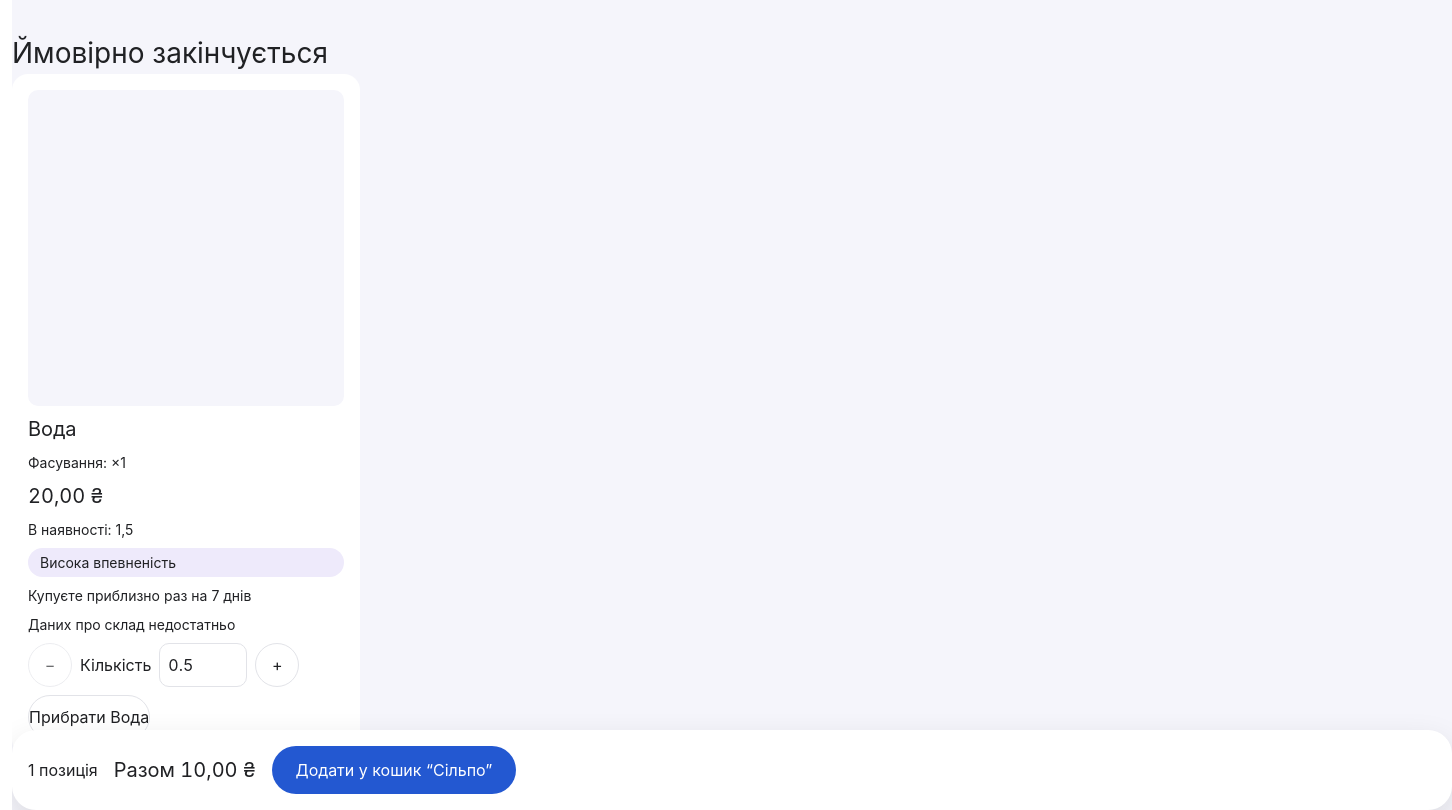
Scenario: DraftEditor › T15-01 changes fractional quantity by the selected step and respects stock
The width and height of the screenshot is (1452, 810).
Click the button named "Збільшити кількість Вода" at (277,665), box [255,643,299,687]
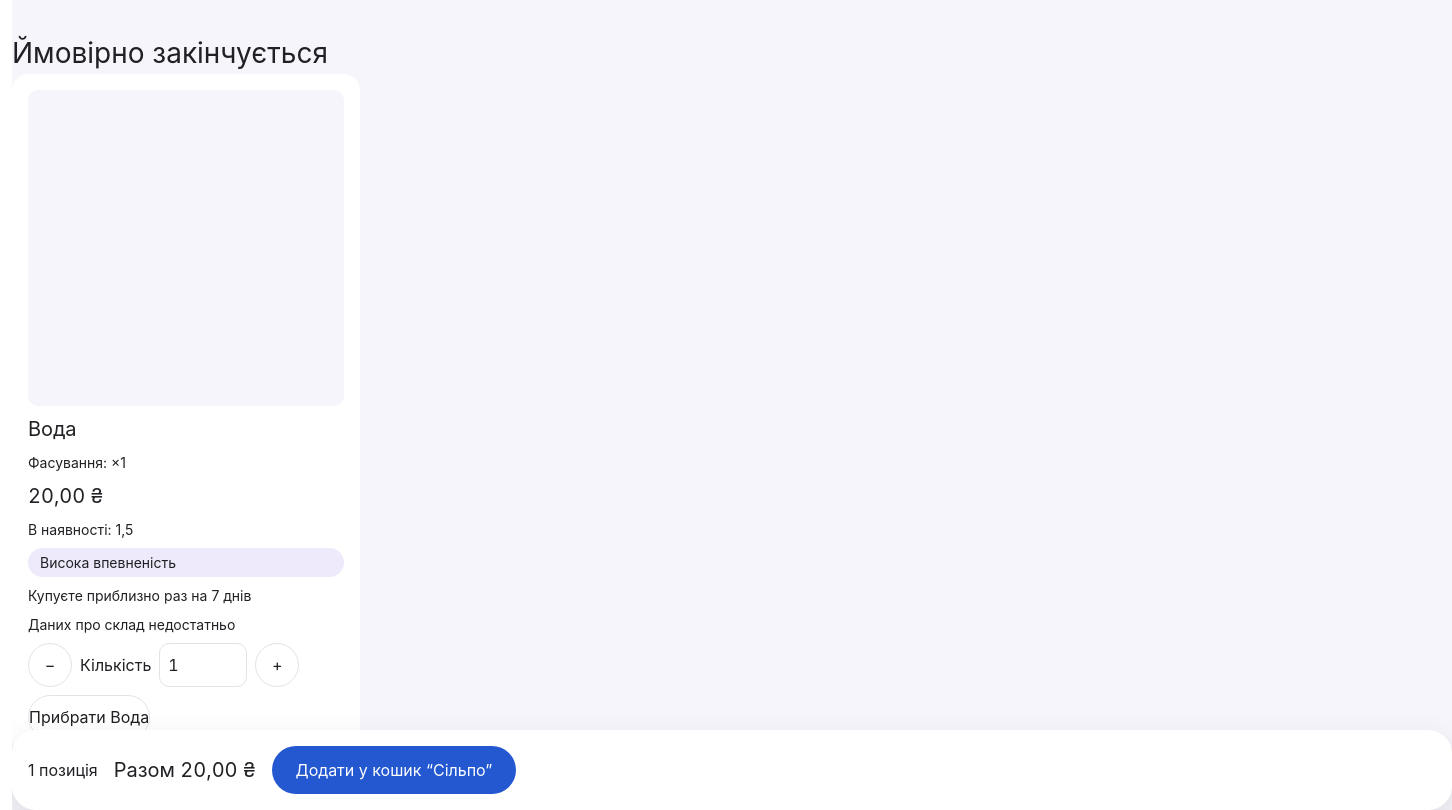
Result: the number field named "Кількість для Вода" holds "1" at [159,643,247,687]
Click the button named "Збільшити кількість Вода" at (277,665), box [255,643,299,687]
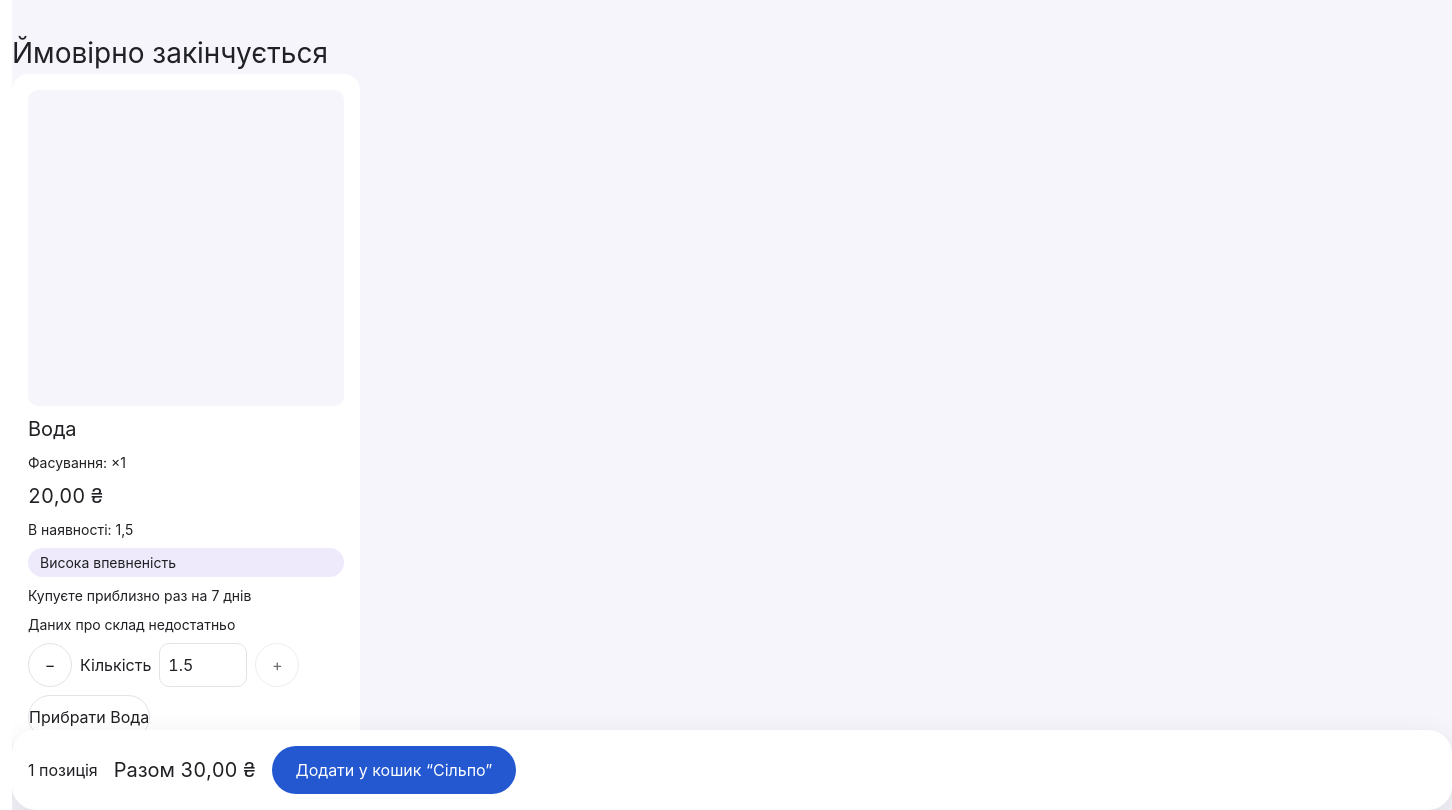
Result: the number field named "Кількість для Вода" holds "1.5" at [159,643,247,687]
